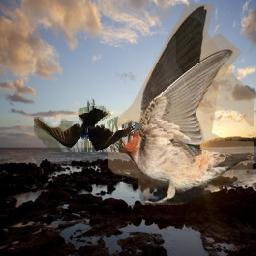Crow: (35, 100, 136, 153)
Swallow: (108, 5, 254, 206)
